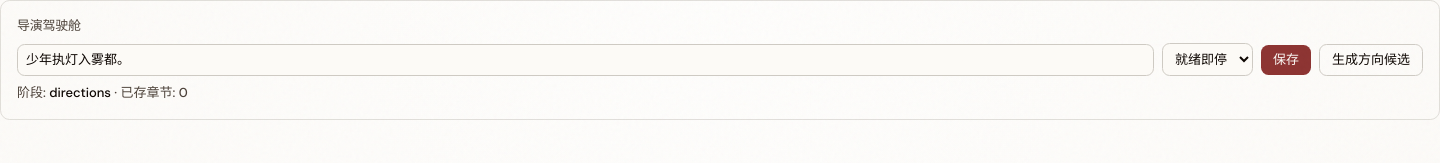
Test case: DirectorPanel 方向候选（508 号） › 生成失败时错误信息透出
The width and height of the screenshot is (1440, 163).
Click the button "生成方向候选".
click(1371, 60)  # box [1319, 44, 1423, 76]
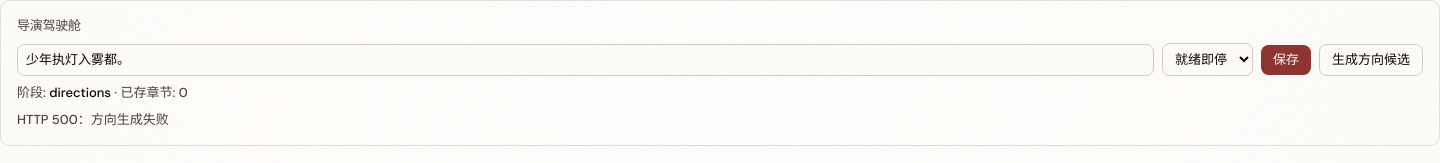
Expected: the text "HTTP 500：方向生成失败" is shown, [17, 111, 169, 128]
